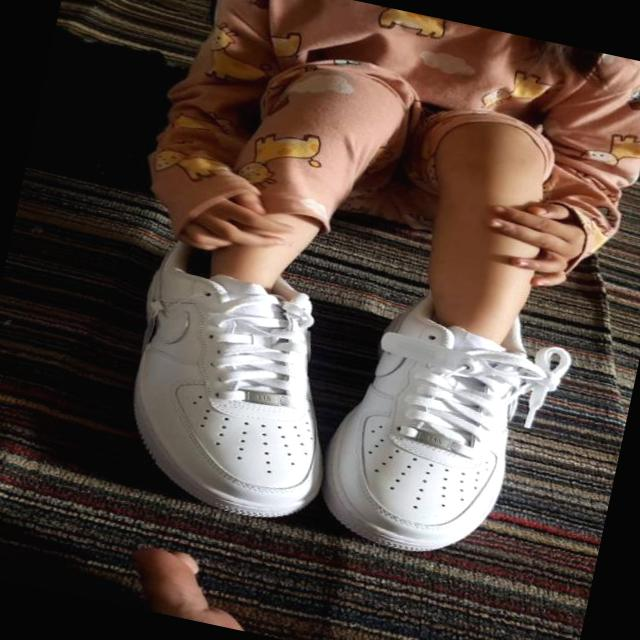nike_original_airforce: (97, 240, 364, 534), (308, 274, 542, 566)
